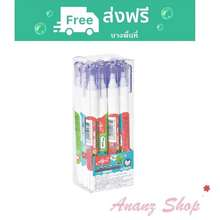Correction_fluid: (81, 62, 99, 160), (118, 62, 134, 155), (105, 62, 120, 156)
